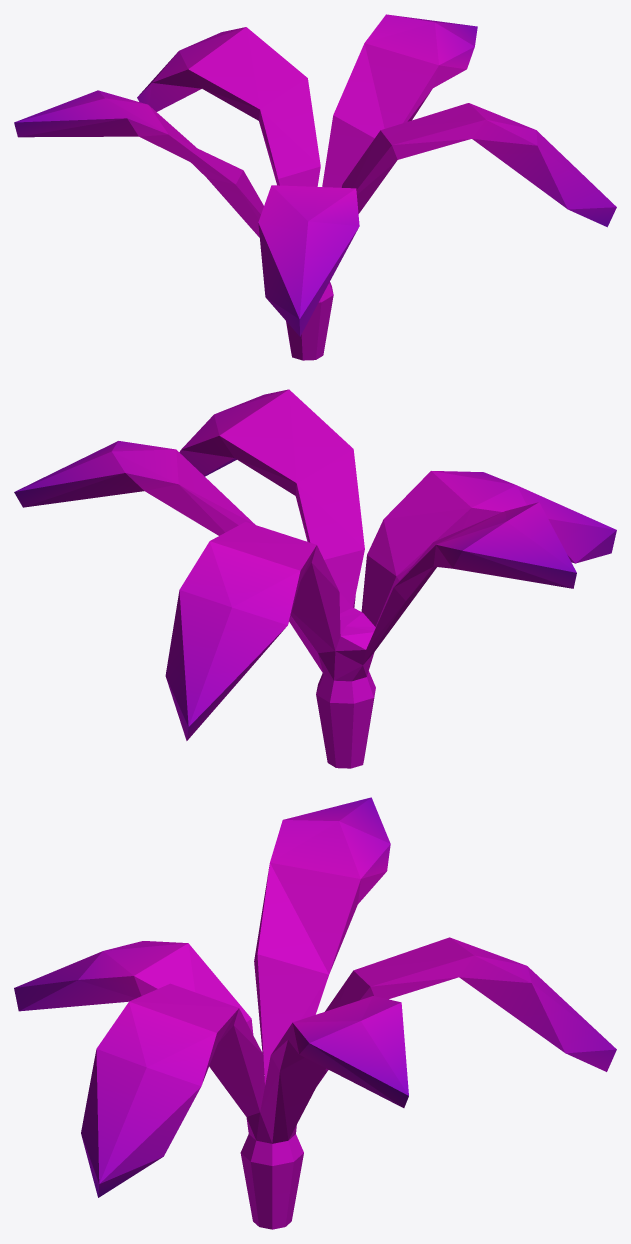
File: SM_Plant_04.gltf
The picture shows the model from 3 angles, top to bottom: view 1: azimuth 30°, elevation 25°; view 2: azimuth 150°, elevation 25°; view 3: azimuth 270°, elevation 25°; orthographic projection. The views are drawn at different scales.
Parts seen in each view (by area): view 1: SM_Plant_04; view 2: SM_Plant_04; view 3: SM_Plant_04.
Part boxes in pixels (x1,y1,x2,y2): SM_Plant_04: (14, 14, 616, 360); SM_Plant_04: (14, 389, 616, 768); SM_Plant_04: (14, 797, 616, 1229).
Size of the model in its own units: 0.7074 by 0.3871 by 0.6895.
